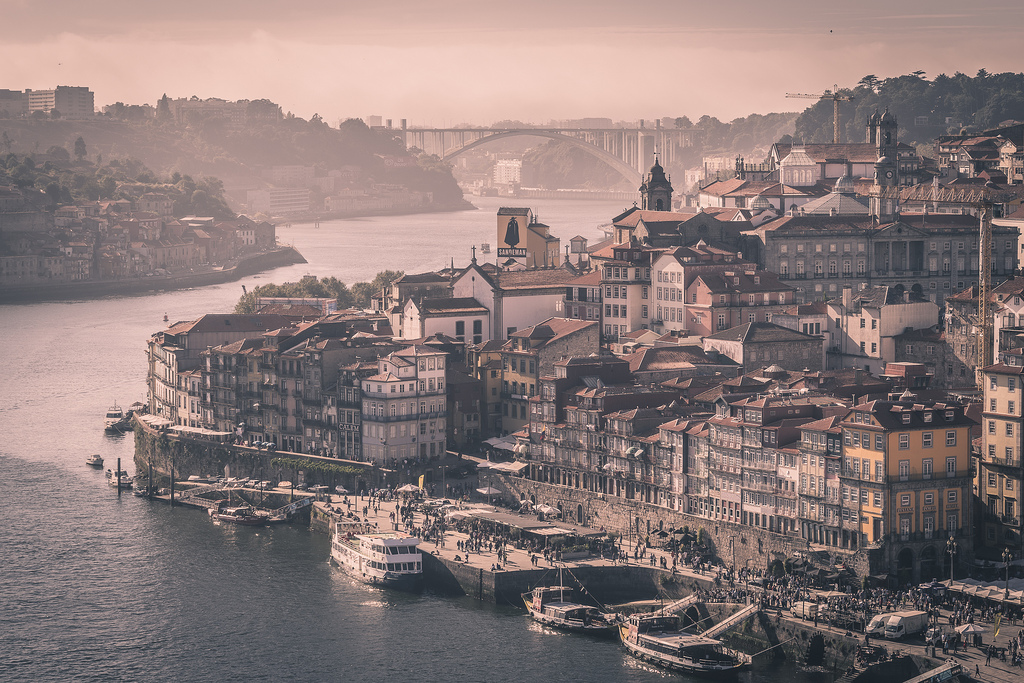arrabida: (379, 117, 692, 190)
